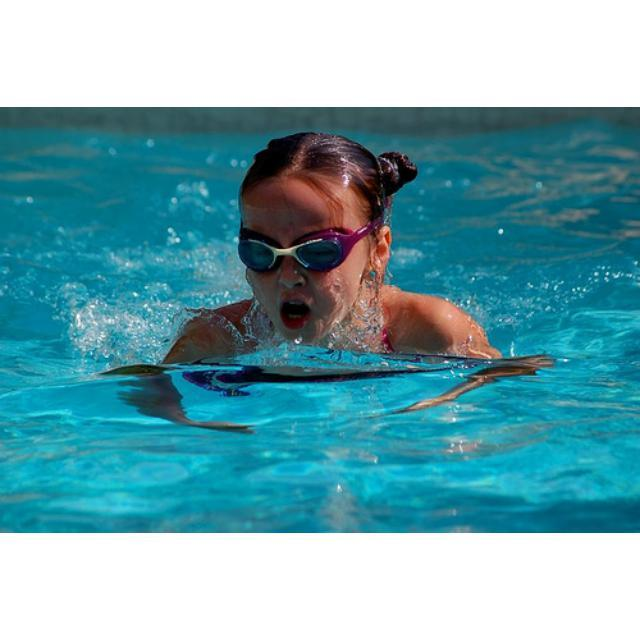human: (153, 130, 506, 374)
